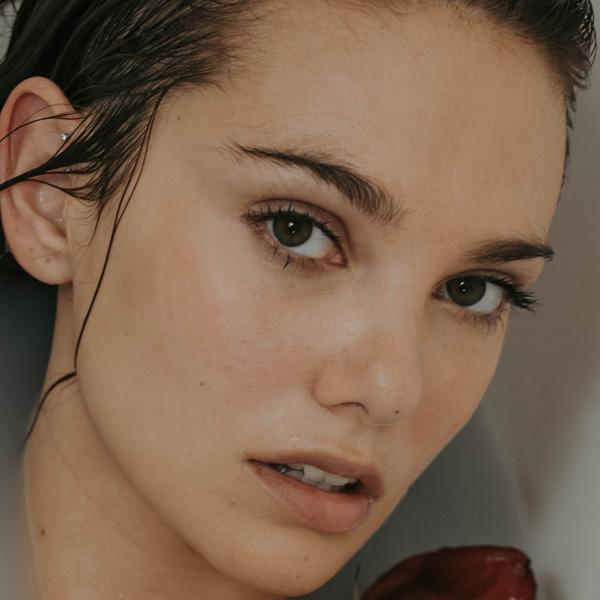Eyes: (235, 186, 356, 279), (421, 261, 528, 333)
